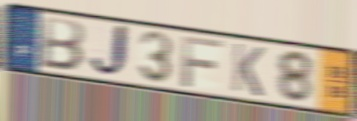3: (138, 28, 174, 86)
8: (275, 49, 316, 104)
B: (37, 15, 87, 74)
F: (180, 34, 225, 90)
J: (87, 22, 131, 81)
K: (230, 41, 267, 99)
